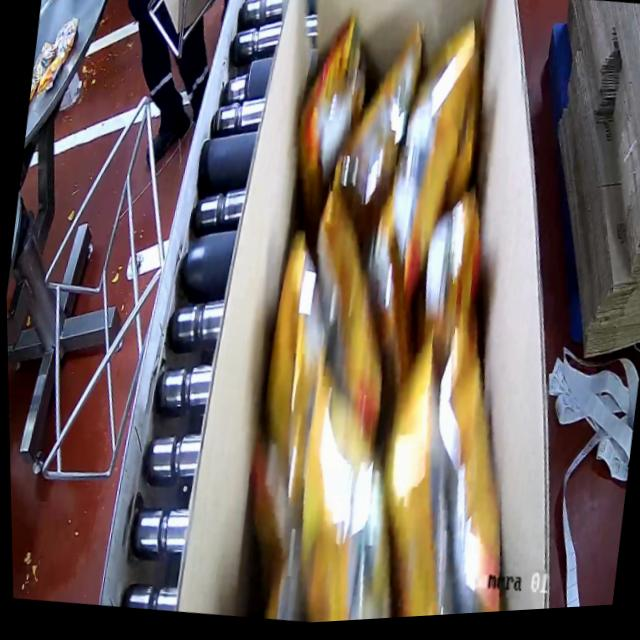FRENCH_CHEESE: (210, 0, 597, 628)
